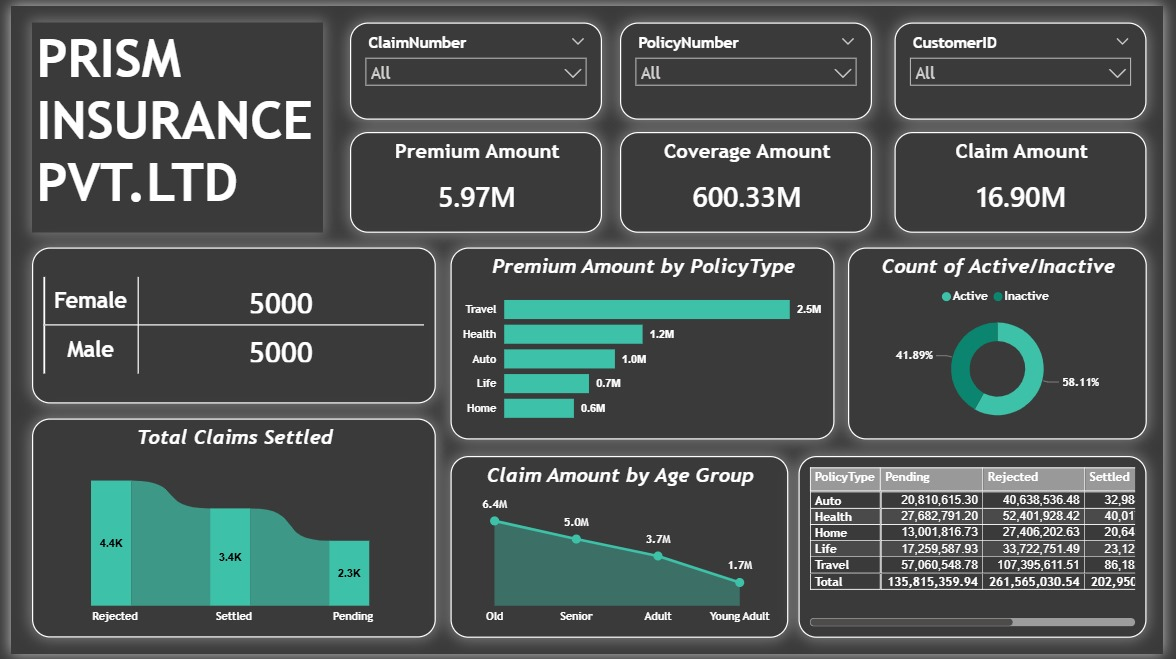

This screenshot's page, from the dashboard's own definition file:
{"tool":"powerbi","page":{"name":"Page 1","canvas":[1280,720],"ordinal":0},"visuals":[{"type":"slicer","fields":{"Values":["InsuranceData.CustomerID"]},"box":[982,18,280,108],"z":0},{"type":"slicer","fields":{"Values":["InsuranceData.ClaimNumber"]},"box":[376,18,280,108],"z":1},{"type":"slicer","fields":{"Values":["InsuranceData.PolicyNumber"]},"box":[676,18,280,108],"z":2},{"type":"textbox","box":[23.3,18.3,323.3,233.3],"z":3},{"type":"cardVisual","title":"Claim Amount","fields":{"Data":["Sum(InsuranceData.ClaimAmount)"]},"box":[981.7,140,280,111.7],"z":4},{"type":"cardVisual","title":"Coverage Amount","fields":{"Data":["Sum(InsuranceData.CoverageAmount)"]},"box":[676.7,140,280,111.7],"z":5},{"type":"cardVisual","title":"Premium Amount","fields":{"Data":["Sum(InsuranceData.PremiumAmount)"]},"box":[376.7,140,280,111.7],"z":6},{"type":"cardVisual","fields":{"Rows":["InsuranceData.Gender"],"Data":["CountNonNull(InsuranceData.Gender)"]},"box":[23.3,268.3,448.3,173.3],"z":7},{"type":"ribbonChart","title":"Total Claims Settled","fields":{"Category":["InsuranceData.ClaimStatus"],"Y":["CountNonNull(InsuranceData.ClaimStatus)"]},"box":[23.3,458.3,448.3,243.3],"z":8},{"type":"clusteredBarChart","title":"Premium Amount by PolicyType","fields":{"Y":["Sum(InsuranceData.PremiumAmount)"],"Category":["InsuranceData.PolicyType"]},"box":[488.3,268.3,426.7,213.3],"z":9},{"type":"lineChart","title":"Claim Amount by Age Group","fields":{"Category":["InsuranceData.Age Group"],"Y":["Sum(InsuranceData.ClaimAmount)"]},"box":[488.3,500,375,201.7],"z":10},{"type":"donutChart","title":"Count of Active/Inactive","fields":{"Category":["InsuranceData.Active/Inactive"],"Y":["CountNonNull(InsuranceData.Active/Inactive)"]},"box":[930,268.3,331.7,213.3],"z":11},{"type":"pivotTable","fields":{"Values":["Sum(InsuranceData.CoverageAmount)"],"Rows":["InsuranceData.PolicyType"],"Columns":["InsuranceData.ClaimStatus"]},"box":[875,500,386.7,201.7],"z":12}]}

Visuals, with their boxes in screenshot pixels (x1, y1, x2, y2), scaled from the page's 1280x720 canvas onto the 1176x659 screenshot:
slicer - InsuranceData.CustomerID: 902, 16, 1159, 115
slicer - InsuranceData.ClaimNumber: 345, 16, 603, 115
slicer - InsuranceData.PolicyNumber: 621, 16, 878, 115
textbox: 21, 17, 318, 230
"Claim Amount" cardVisual: 902, 128, 1159, 230
"Coverage Amount" cardVisual: 622, 128, 879, 230
"Premium Amount" cardVisual: 346, 128, 603, 230
cardVisual - InsuranceData.Gender x CountNonNull(InsuranceData.Gender): 21, 246, 433, 404
"Total Claims Settled" ribbonChart: 21, 419, 433, 642
"Premium Amount by PolicyType" clusteredBarChart: 449, 246, 841, 441
"Claim Amount by Age Group" lineChart: 449, 458, 793, 642
"Count of Active/Inactive" donutChart: 854, 246, 1159, 441
pivotTable - Sum(InsuranceData.CoverageAmount) x InsuranceData.PolicyType: 804, 458, 1159, 642
